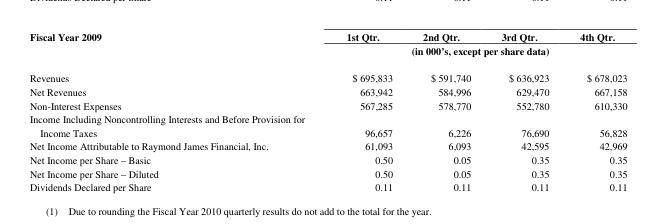table: (28, 29, 626, 193)
table column: (28, 29, 306, 193), (306, 29, 407, 193), (407, 29, 485, 193), (485, 29, 563, 193), (563, 29, 626, 193)
table column header: (28, 29, 626, 64)
table projected row header: (28, 111, 626, 125)
table row: (28, 43, 626, 64), (28, 64, 626, 84), (28, 29, 626, 43), (28, 97, 626, 111), (28, 111, 626, 125), (28, 138, 626, 152), (28, 165, 626, 179), (28, 179, 626, 193), (28, 84, 626, 97), (28, 125, 626, 138), (28, 152, 626, 165)
table spanning cell: (28, 29, 306, 64), (306, 43, 626, 64)
